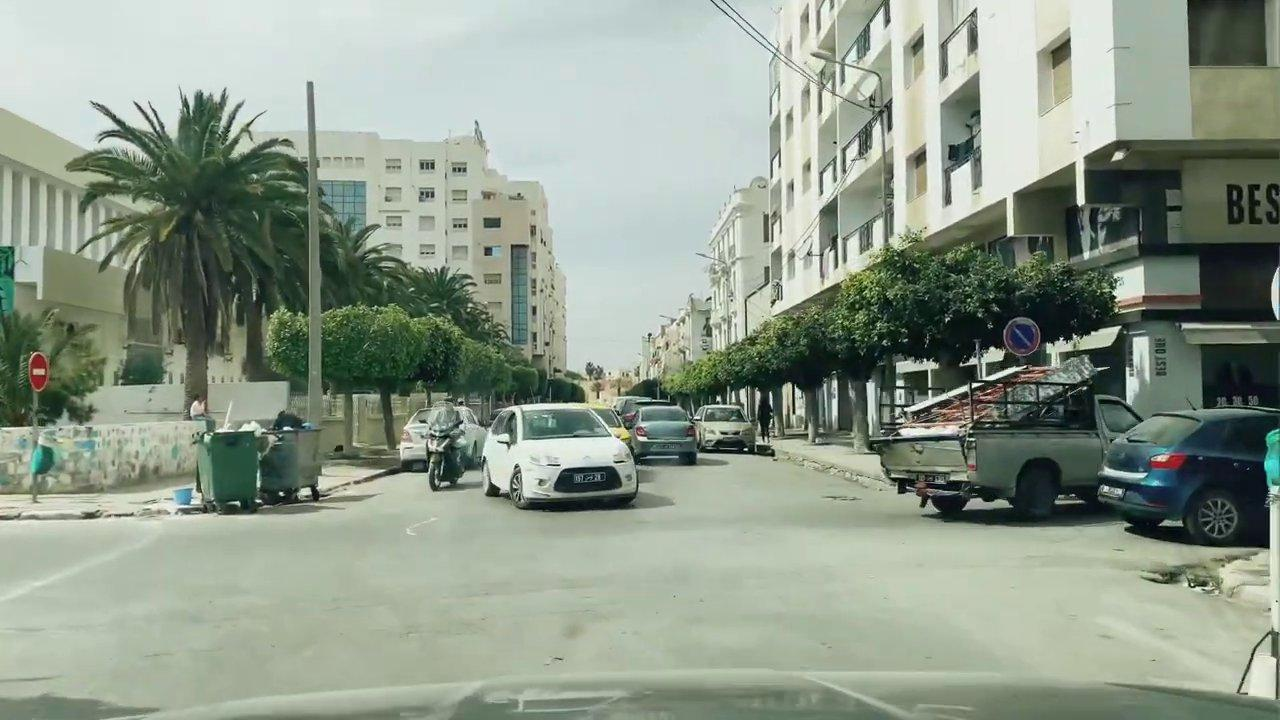no entry: (28, 352, 50, 392)
no parking: (1000, 318, 1043, 358)
